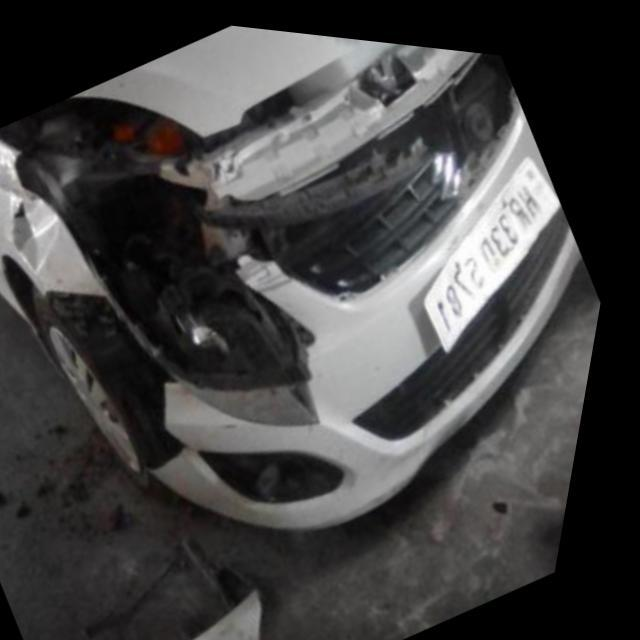dent: (0, 160, 98, 294)
dislocated part: (0, 33, 527, 423)
